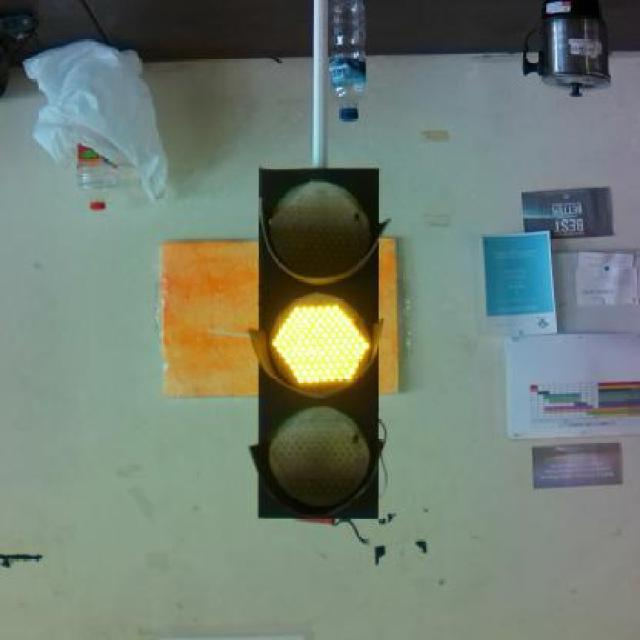yellow_light: (227, 200, 375, 504)
